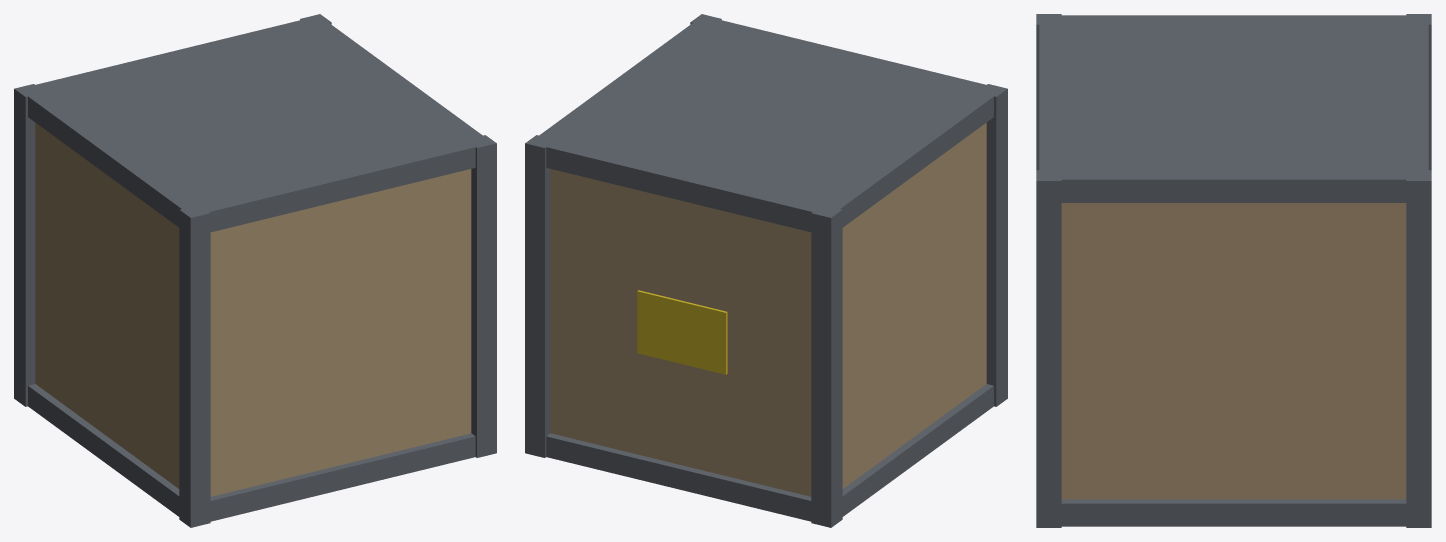
The model's file is prop_delivery_crate.glb.
3 views of the same model, side by side, from view 1: azimuth 30°, elevation 25°; view 2: azimuth 150°, elevation 25°; view 3: azimuth 270°, elevation 25° (orthographic). The views are drawn at different scales.
Parts seen in each view (by area): view 1: world; view 2: world; view 3: world.
Boxes of the visible parts, x1,y1,x2,y2 form: world: [14, 14, 496, 527]; world: [525, 14, 1007, 527]; world: [1036, 14, 1431, 527].
Bounding box in the file's own units: 1.24 × 1.2 × 1.24.
